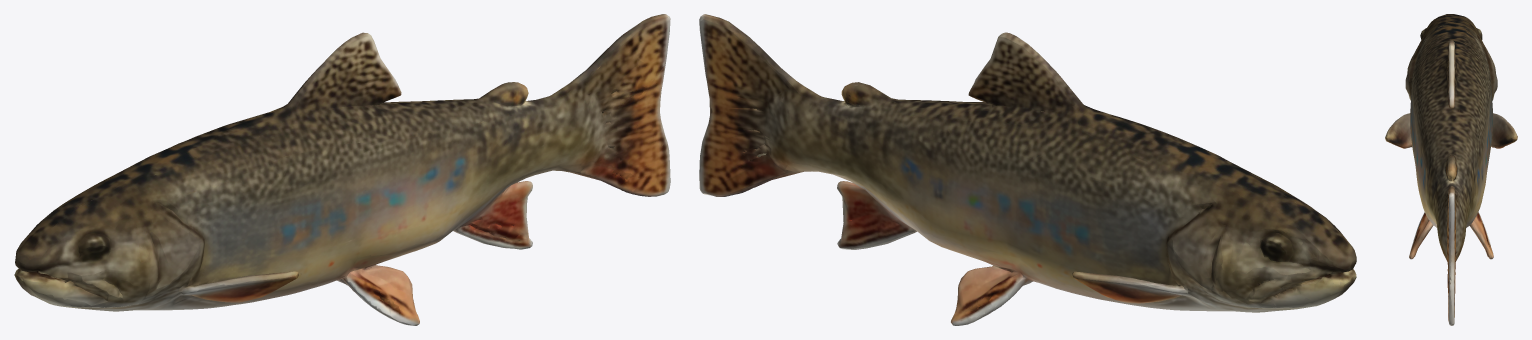
The model's file is brook-trout-v18-lod.glb.
3 renders of one model, left to right at view 1: azimuth 30°, elevation 25°; view 2: azimuth 150°, elevation 25°; view 3: azimuth 270°, elevation 25°, orthographic. The views are drawn at different scales.
Parts seen in each view (by area): view 1: geometry_0; view 2: geometry_0; view 3: geometry_0.
Boxes of the visible parts, box(x1,y1,x2,y2) form: geometry_0: box(14, 14, 670, 325); geometry_0: box(699, 14, 1356, 325); geometry_0: box(1385, 14, 1517, 325).
Bounding box in the file's own units: 0.3498 × 0.1428 × 0.0832.
1 material, 1 textured.
